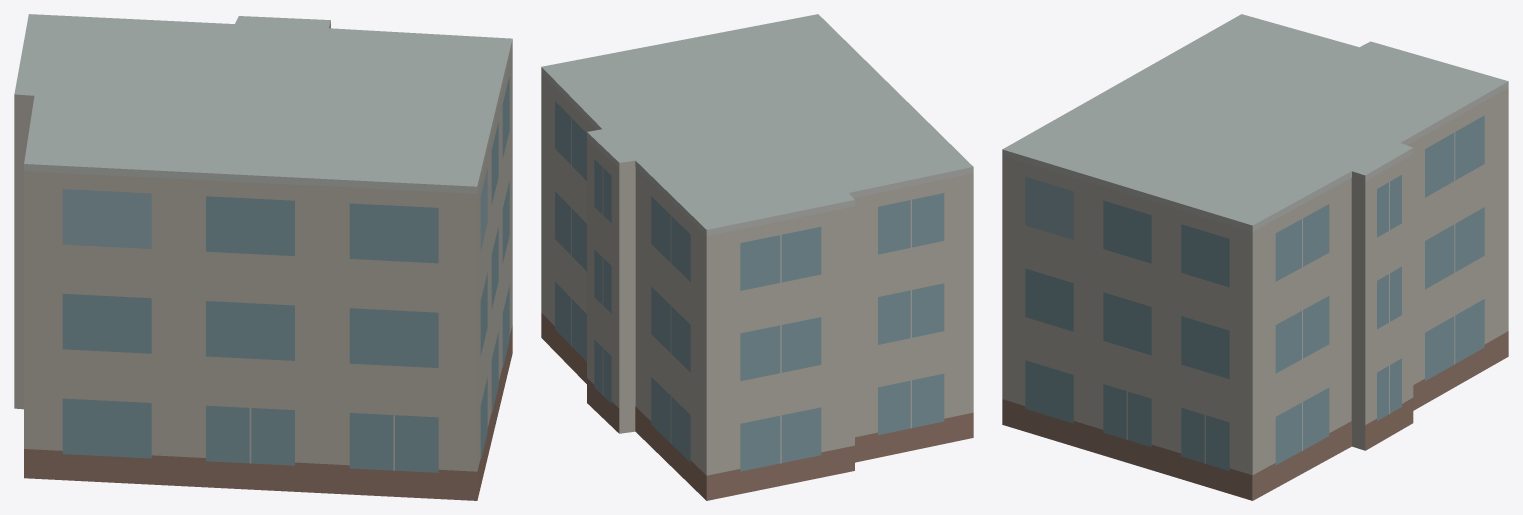
The model's file is survey-upis-32690785.glb.
3 views of the same model, side by side, from view 1: azimuth 30°, elevation 25°; view 2: azimuth 150°, elevation 25°; view 3: azimuth 270°, elevation 25° (orthographic). The views are drawn at different scales.
Parts seen in each view (by area): view 1: survey-upis-32690785.tmp; view 2: survey-upis-32690785.tmp; view 3: survey-upis-32690785.tmp.
Boxes of the visible parts, box(x1,y1,x2,y2) form: survey-upis-32690785.tmp: box(14, 14, 512, 500); survey-upis-32690785.tmp: box(541, 14, 973, 500); survey-upis-32690785.tmp: box(1002, 14, 1508, 500).
Size of the model in its own units: 17.48 by 10.6 by 17.68.
